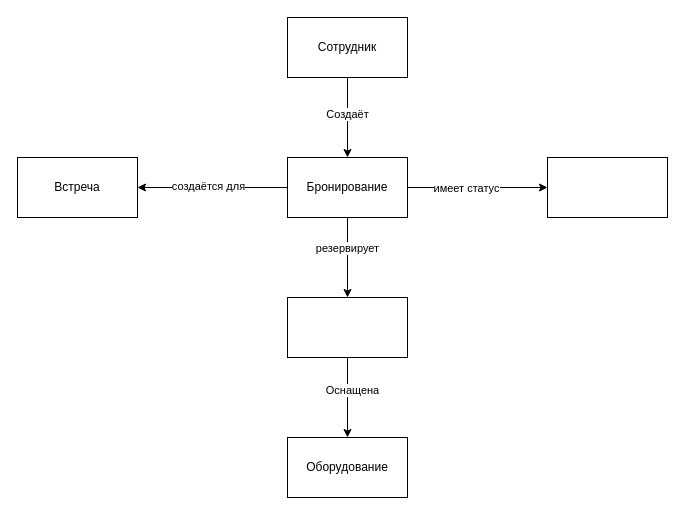
The diagram is 685 pixels wide and 515 high, and some of its shapes have lost their labels. Each missing label, with the box of its shape:
Переговорная комната: (286, 296, 408, 358)
Статус бронирования: (546, 156, 668, 218)
